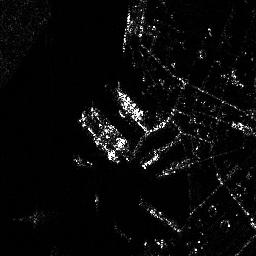ship: (77, 111, 120, 165), (89, 106, 133, 152), (117, 88, 145, 122)
